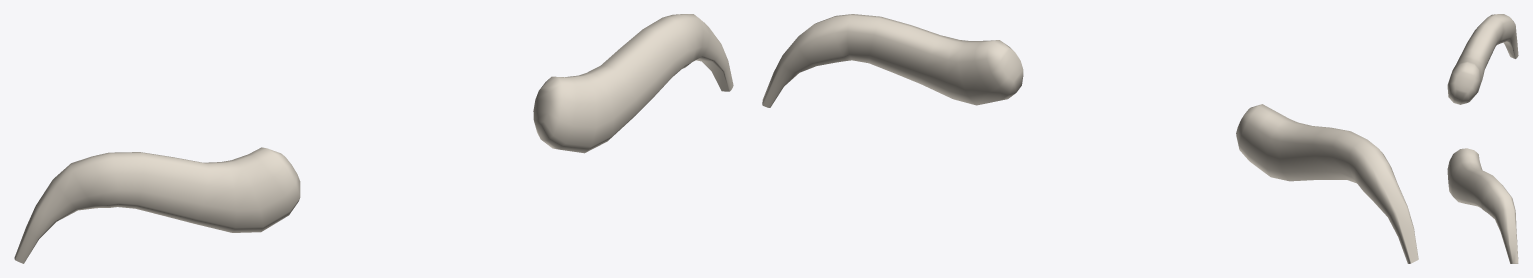
Rendered from Eyebrows_28_07.fbx.
3 renders of one model, left to right at view 1: azimuth 30°, elevation 25°; view 2: azimuth 150°, elevation 25°; view 3: azimuth 270°, elevation 25°, orthographic. The views are drawn at different scales.
Visible parts, largest first — view 1: Eyebrows_28_07; view 2: Eyebrows_28_07; view 3: Eyebrows_28_07.
Part boxes in pixels (x1,y1,x2,y2): Eyebrows_28_07: [14, 14, 733, 263]; Eyebrows_28_07: [762, 14, 1418, 263]; Eyebrows_28_07: [1447, 14, 1518, 263].
Bounding box in the file's own units: 18.81 × 2.62 × 2.68.
